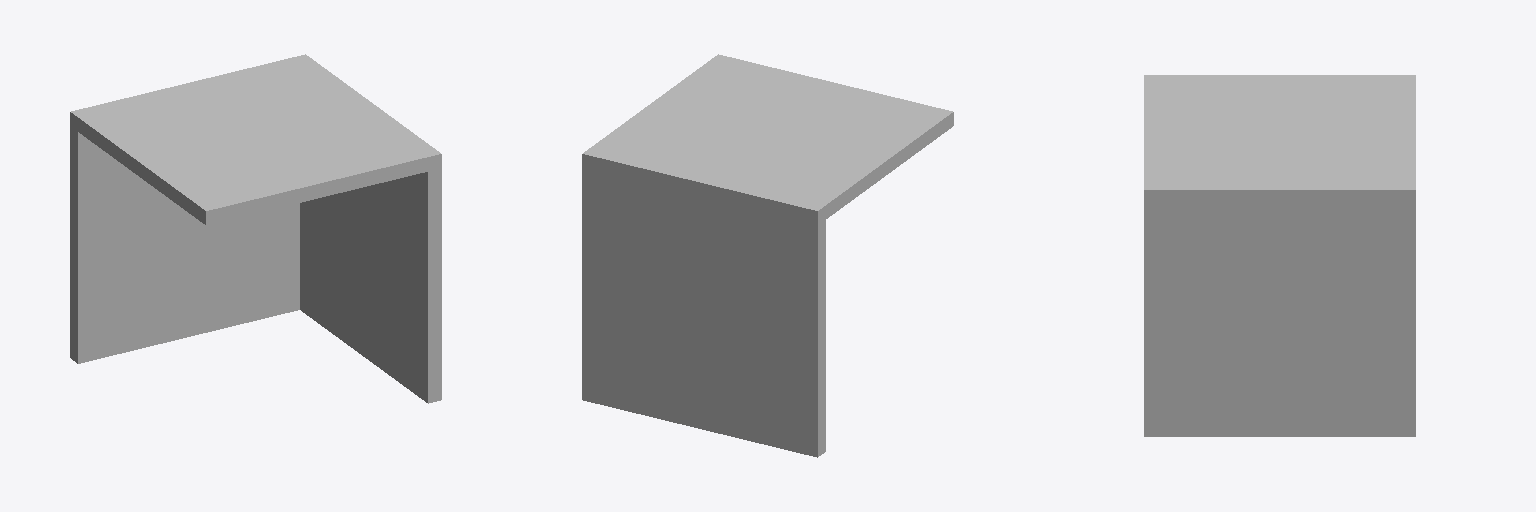
The model's file is corner.obj.
The picture shows the model from 3 angles: view 1: azimuth 30°, elevation 25°; view 2: azimuth 150°, elevation 25°; view 3: azimuth 270°, elevation 25°; orthographic projection.
Size of the model in its own units: 17 by 17 by 17.